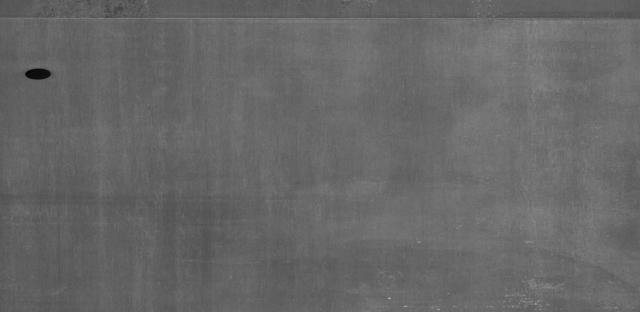punching_hole: (22, 64, 56, 83)
welding_line: (0, 8, 640, 30)
